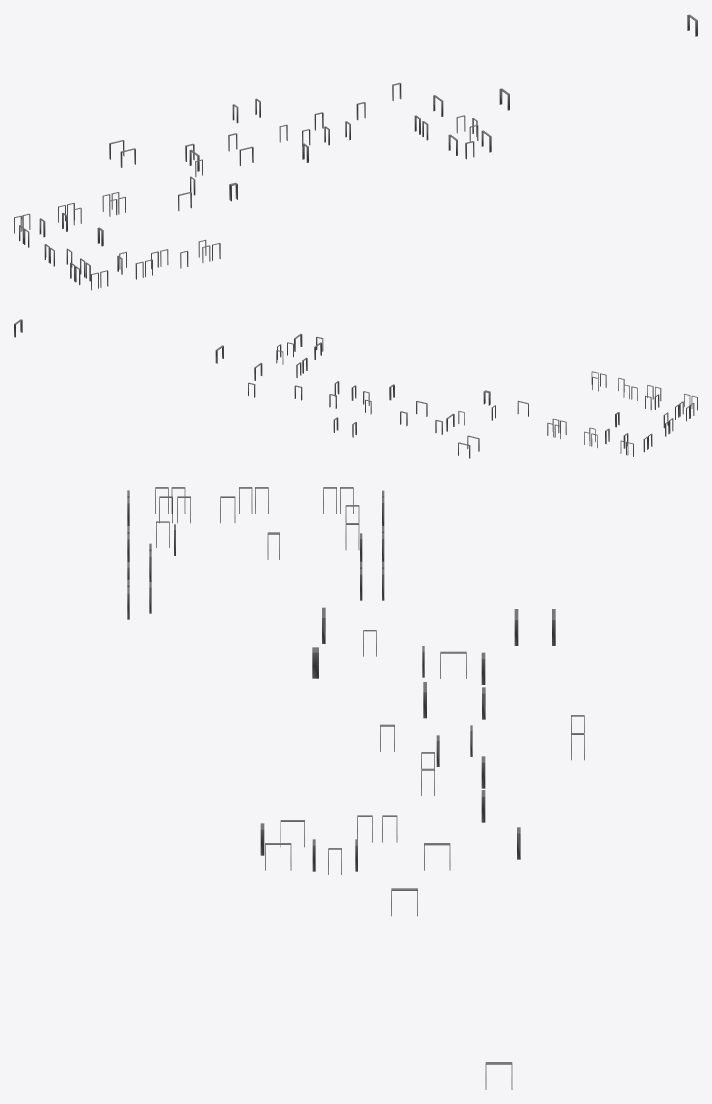
The model's file is envFirstFloor_DoorFrames.fbx.
The picture shows the model from 3 angles, top to bottom: view 1: azimuth 30°, elevation 25°; view 2: azimuth 150°, elevation 25°; view 3: azimuth 270°, elevation 25°; orthographic projection. The views are drawn at different scales.
Parts seen in each view (by area): view 1: envFirstFloor_DoorFrames; view 2: envFirstFloor_DoorFrames; view 3: envFirstFloor_DoorFrames.
Boxes of the visible parts, x1,y1,x2,y2 form: envFirstFloor_DoorFrames: (14,14,697,290); envFirstFloor_DoorFrames: (14,319,697,458); envFirstFloor_DoorFrames: (127,487,584,1089).
Size of the model in its own units: 10353 by 218 by 3468.
1 material, 1 textured.
